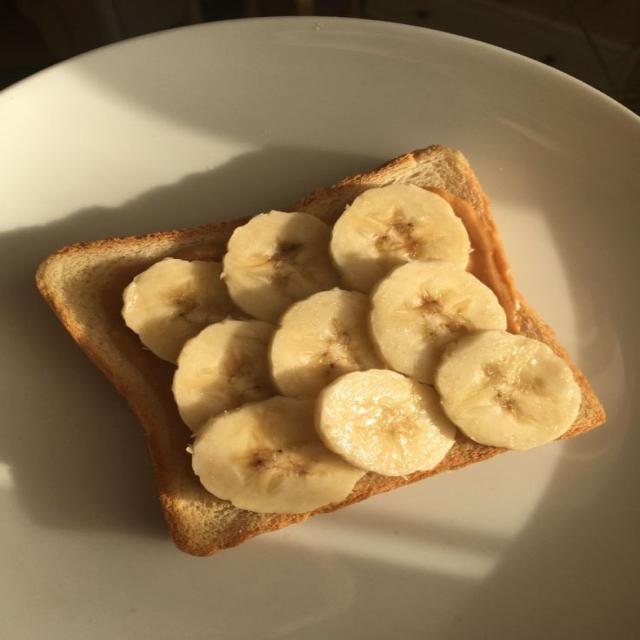sliced_bread: (37, 219, 502, 555), (295, 145, 603, 440)
